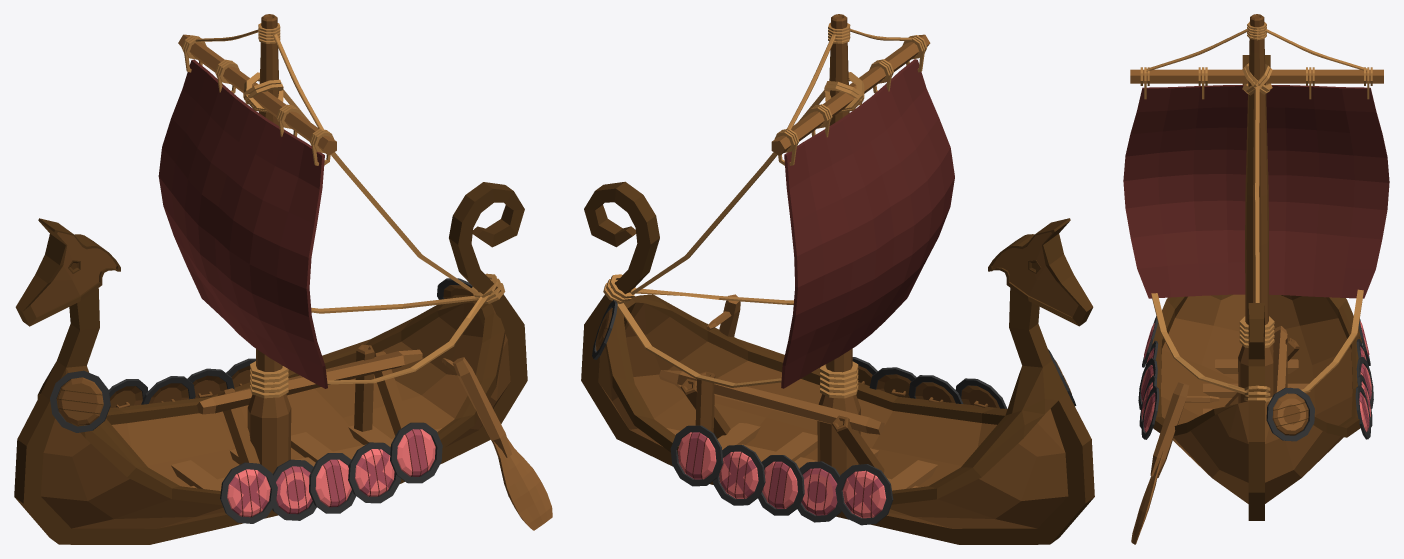
File: D_Galley_Red.fbx
The picture shows the model from 3 angles, left to right: view 1: azimuth 30°, elevation 25°; view 2: azimuth 150°, elevation 25°; view 3: azimuth 270°, elevation 25°; orthographic projection. The views are drawn at different scales.
Parts seen in each view (by area): view 1: D_Galley_Red, D_Galley_Sail_Red, D_Knarr_A_Oar.002; view 2: D_Galley_Red, D_Galley_Sail_Red, D_Knarr_A_Oar.002; view 3: D_Galley_Red, D_Galley_Sail_Red, D_Knarr_A_Oar.002.
Boxes of the visible parts, x1,y1,x2,y2 form: D_Galley_Red: (14,14,527,544); D_Galley_Sail_Red: (158,59,327,388); D_Knarr_A_Oar.002: (441,357,552,530); D_Galley_Red: (581,14,1094,544); D_Galley_Sail_Red: (781,59,954,388); D_Knarr_A_Oar.002: (706,294,740,336); D_Galley_Red: (1130,14,1383,520); D_Galley_Sail_Red: (1123,85,1389,298); D_Knarr_A_Oar.002: (1131,382,1219,544).
Bounding box in the file's own units: 1047 × 1009 × 549.
